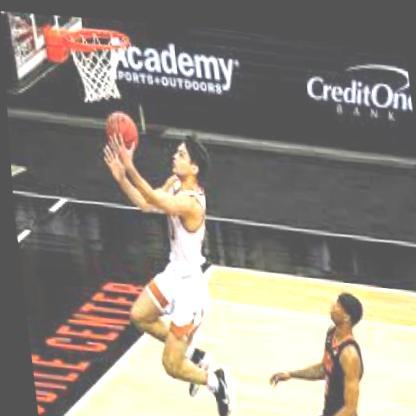basketball: (99, 105, 138, 153)
rim: (60, 20, 133, 57)
